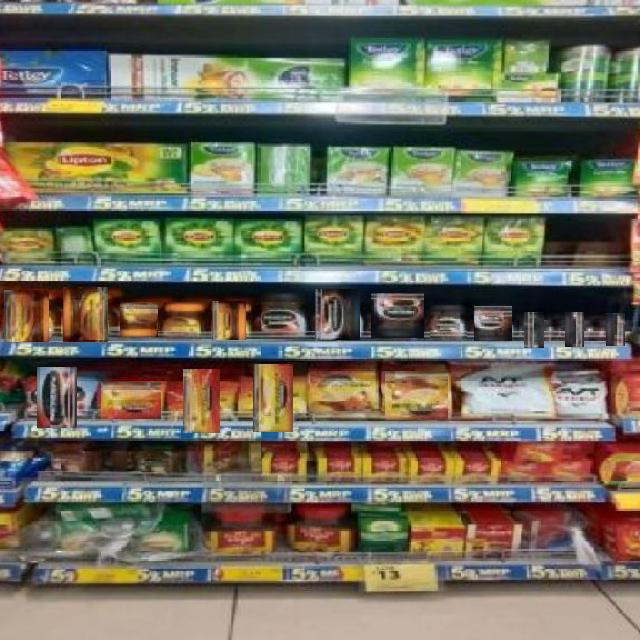Coffee: (311, 370, 377, 419), (384, 371, 448, 420), (253, 364, 293, 432), (370, 292, 424, 338), (64, 286, 108, 342), (3, 290, 49, 342), (38, 367, 77, 428), (183, 369, 220, 433), (314, 290, 360, 340), (255, 292, 305, 338), (101, 381, 161, 419), (119, 302, 158, 337), (211, 301, 246, 340), (473, 306, 512, 341), (163, 304, 202, 338), (431, 305, 467, 339), (523, 312, 544, 348), (565, 312, 584, 347), (607, 312, 625, 346)
